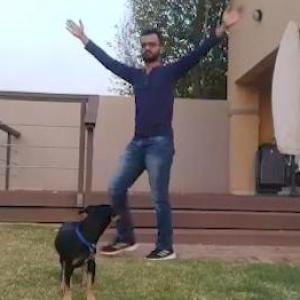takeoff: (57, 8, 245, 274)
